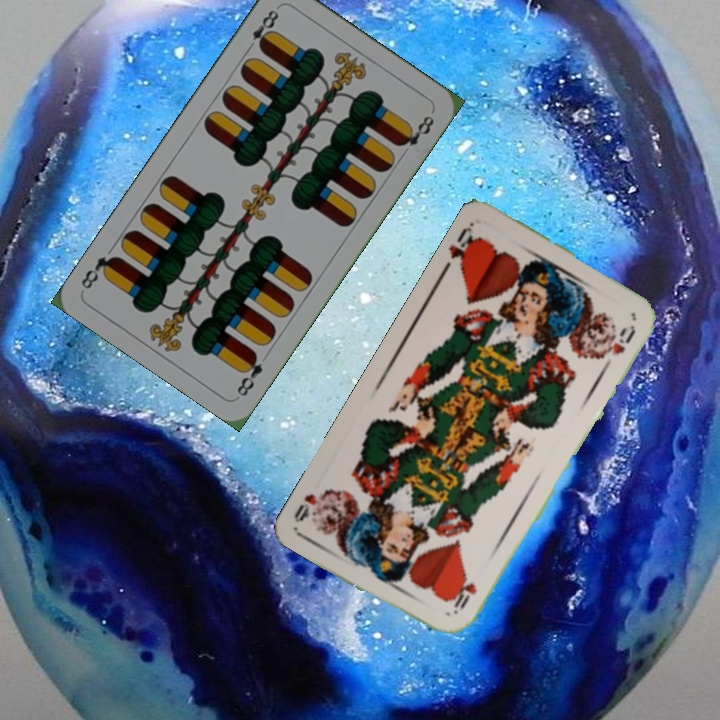E8: (242, 5, 282, 55), (232, 348, 266, 400)
HO: (445, 220, 483, 272), (449, 578, 480, 618)
